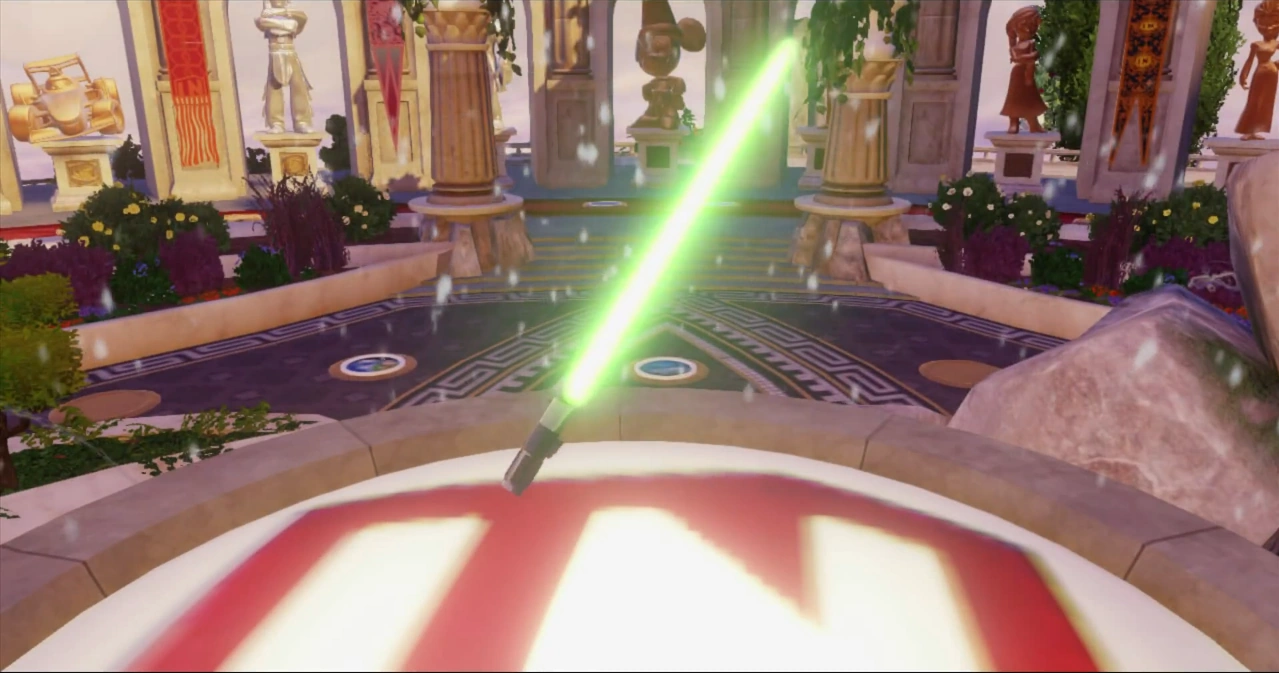Dalek: (497, 37, 805, 496)
